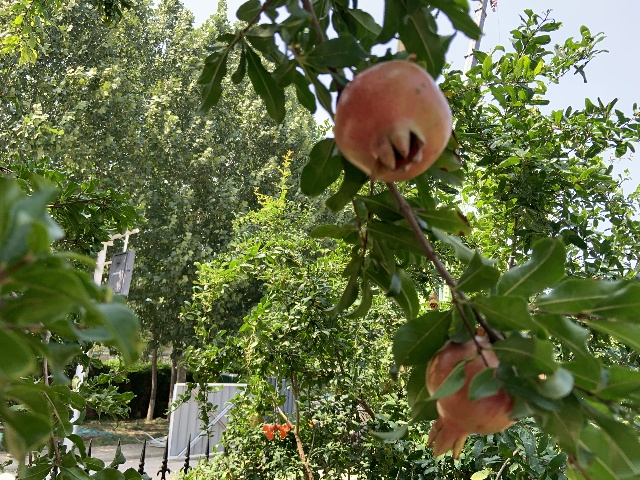bud: (273, 426, 277, 431)
early-fruit: (426, 293, 440, 309)
flower: (263, 424, 275, 440), (276, 424, 290, 437)
ripe: (333, 60, 452, 181), (425, 333, 516, 461)
